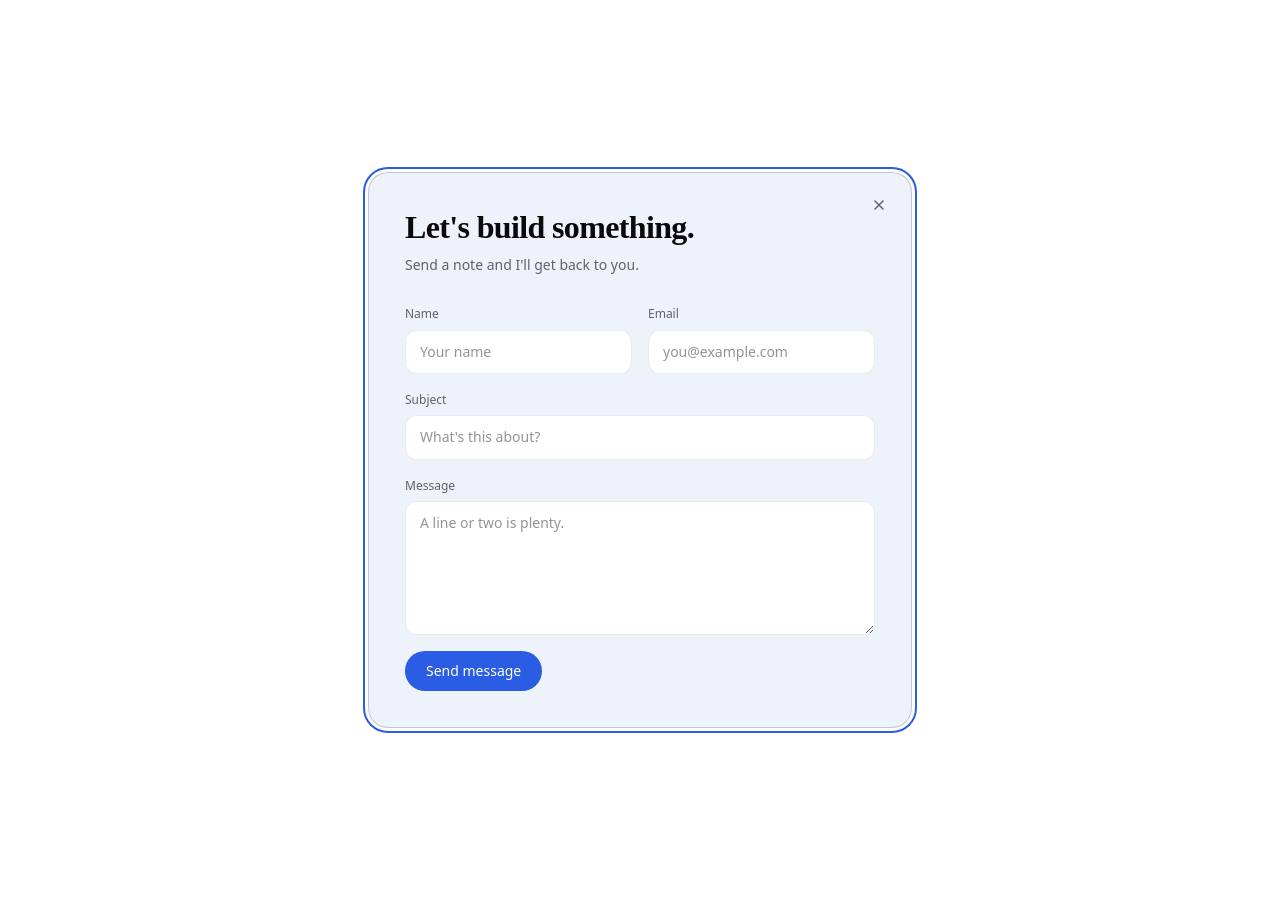
ContactModal › posts the form to the contact endpoint and reports success
This screenshot has width=1280, height=900.
Type "Ada" into the field labelled "Name" at (518, 352), box x1=405 y1=330 x2=632 y2=374
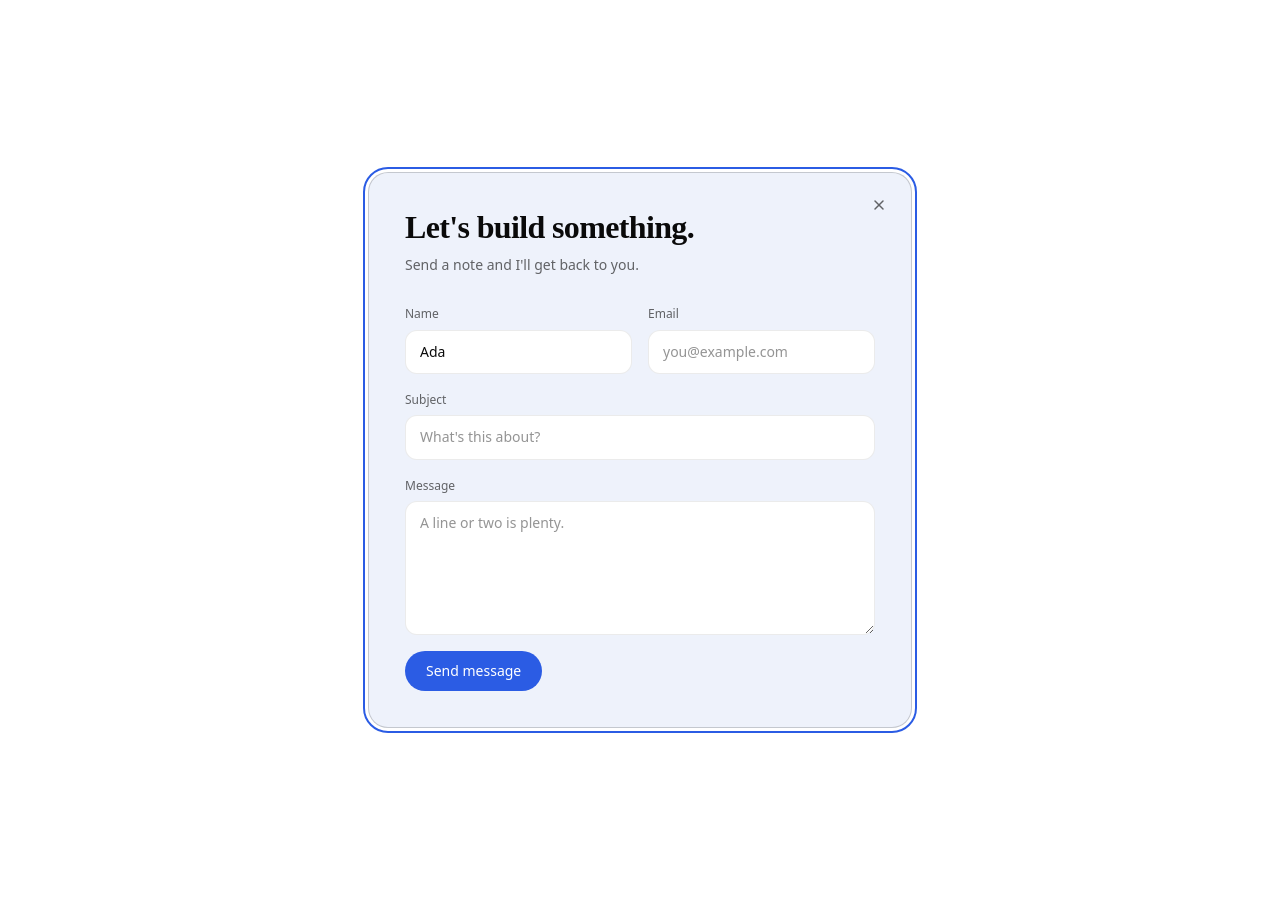
Type "ada@example.com" into the field labelled "Email" at (762, 352), box x1=648 y1=330 x2=875 y2=374
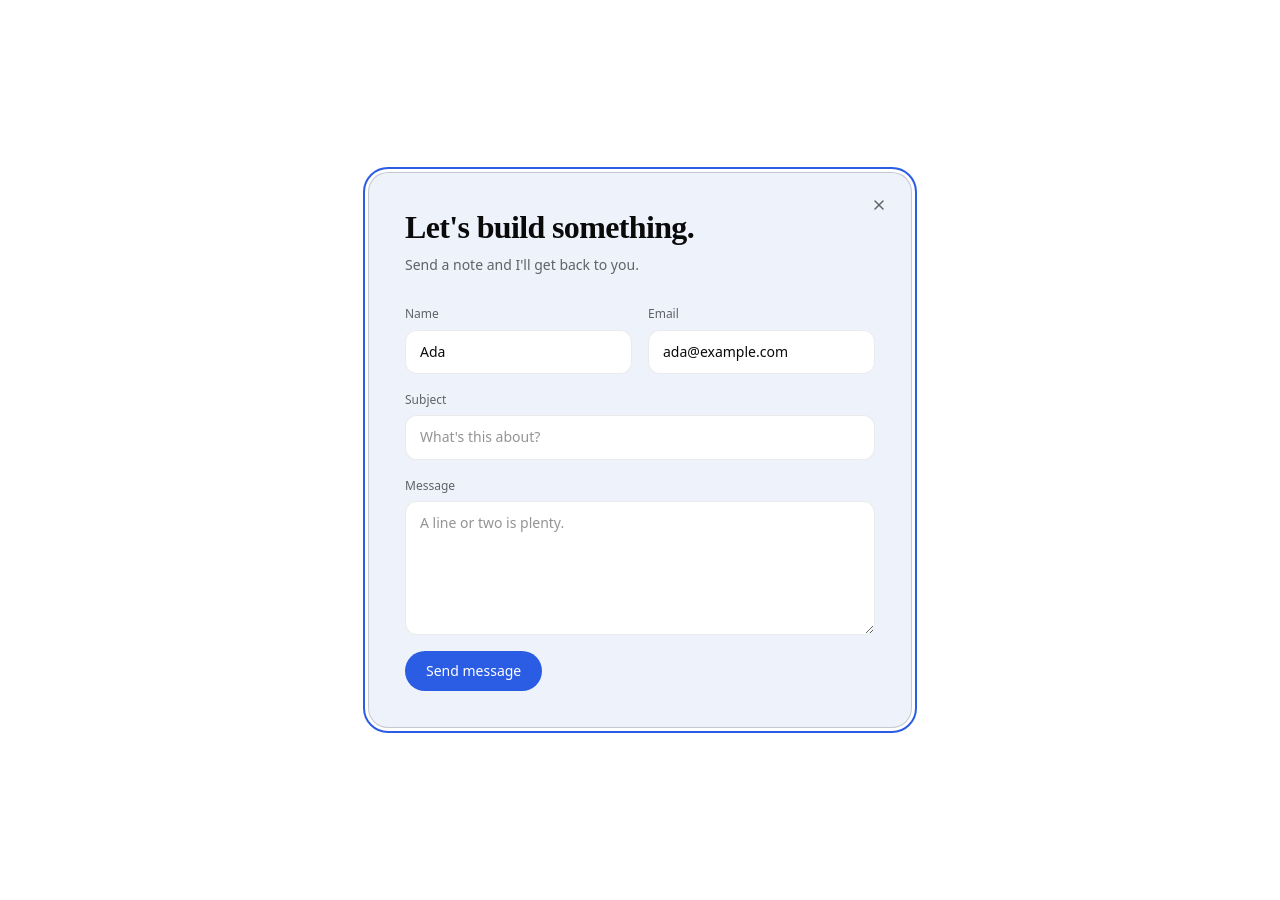
Type "Hello" into the field labelled "Subject" at (640, 437), box x1=405 y1=415 x2=875 y2=460
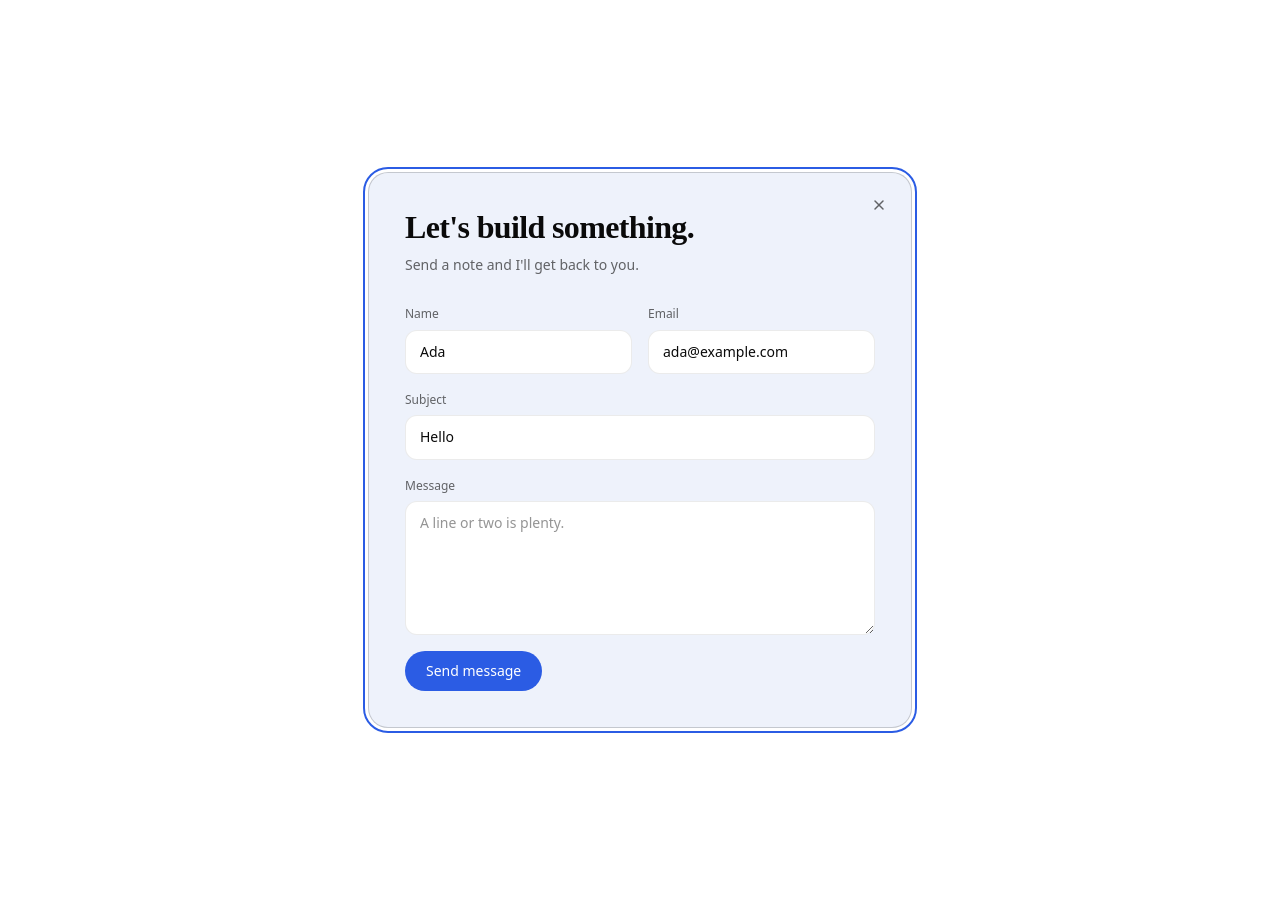
Type "Hi there" into the text box labelled "Message" at (640, 568), box x1=405 y1=501 x2=875 y2=635
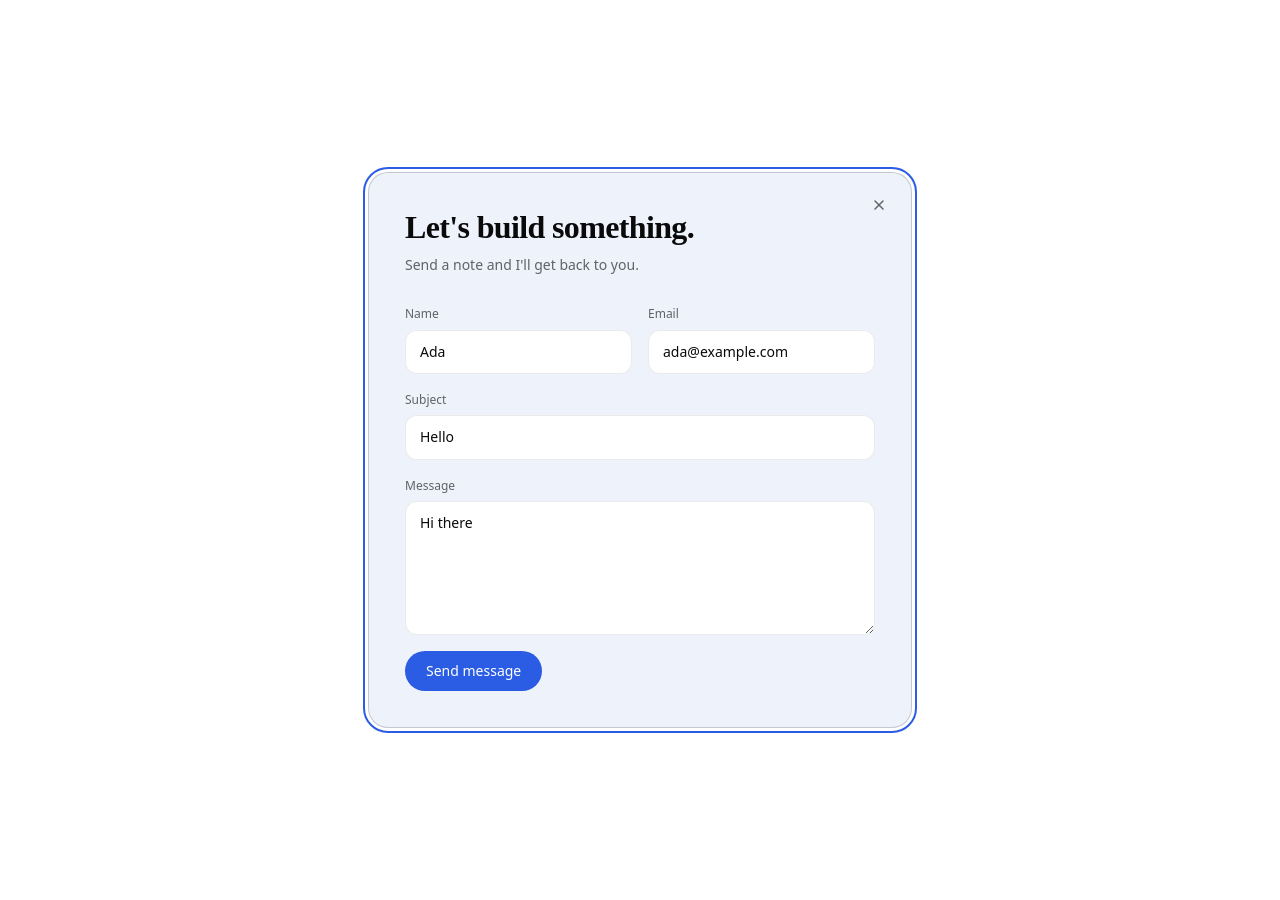
Submit the form with test id "contact-modal-form", box x1=405 y1=304 x2=875 y2=691
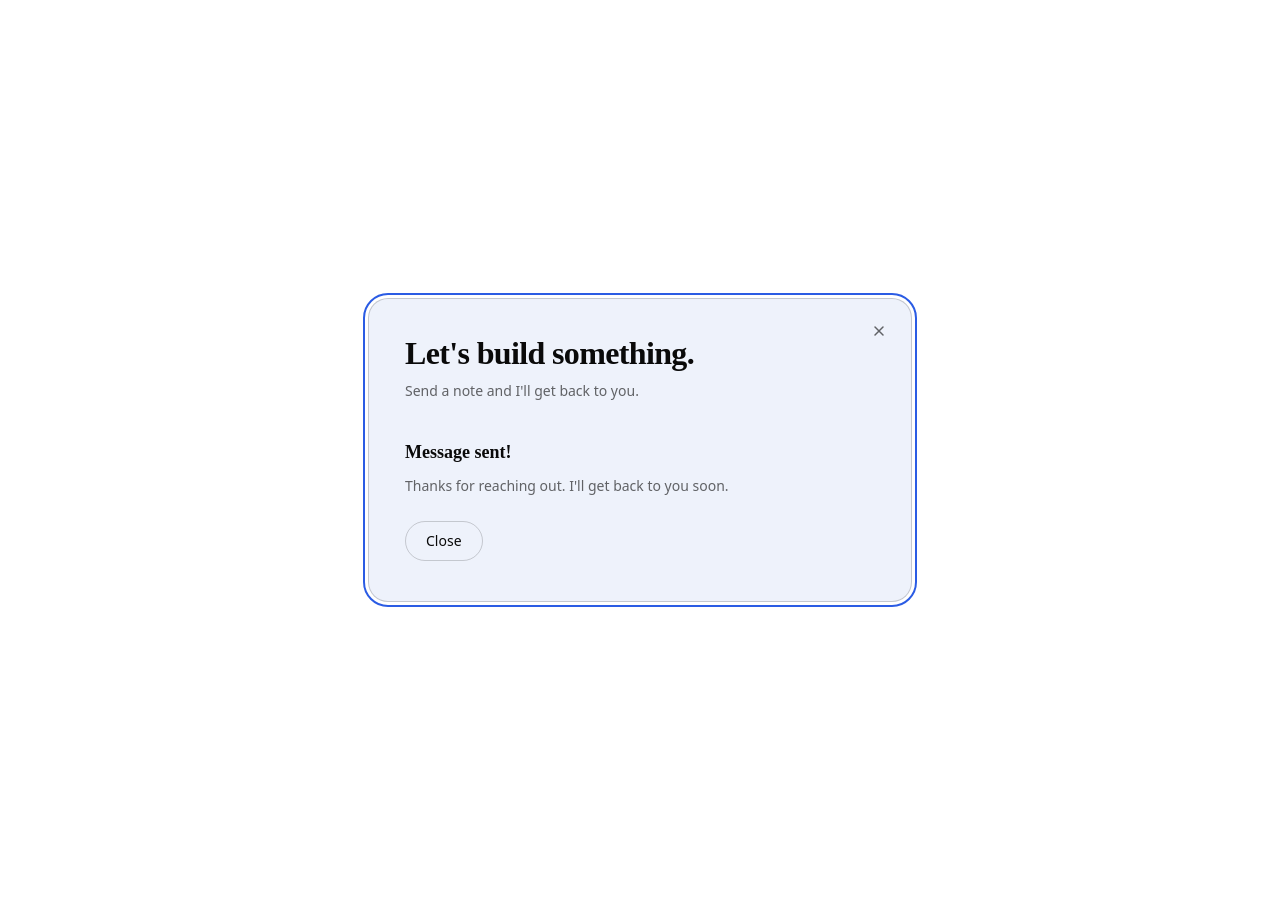
Check: the text "Message sent!" is shown, box x1=405 y1=438 x2=512 y2=467
